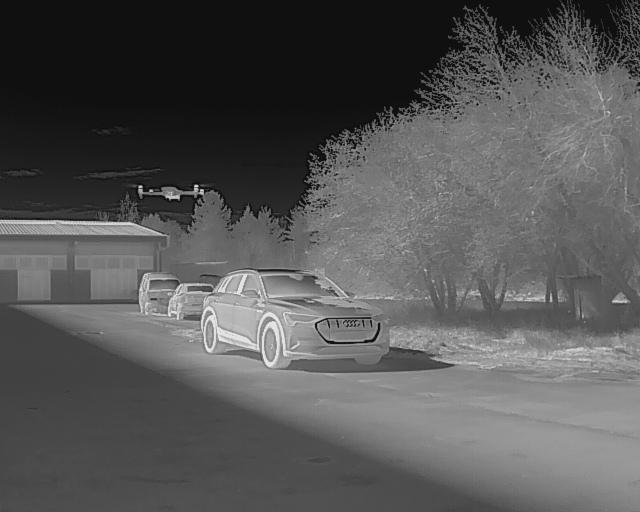drone: (121, 174, 220, 210)
